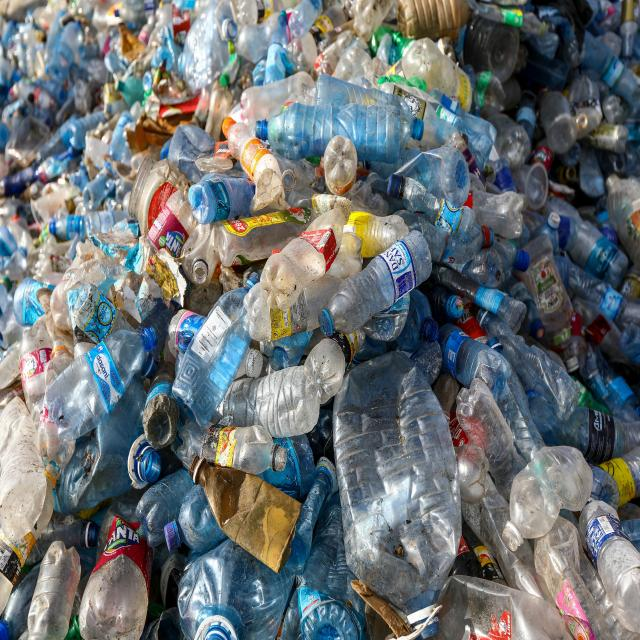plastic: (96, 73, 534, 593)
